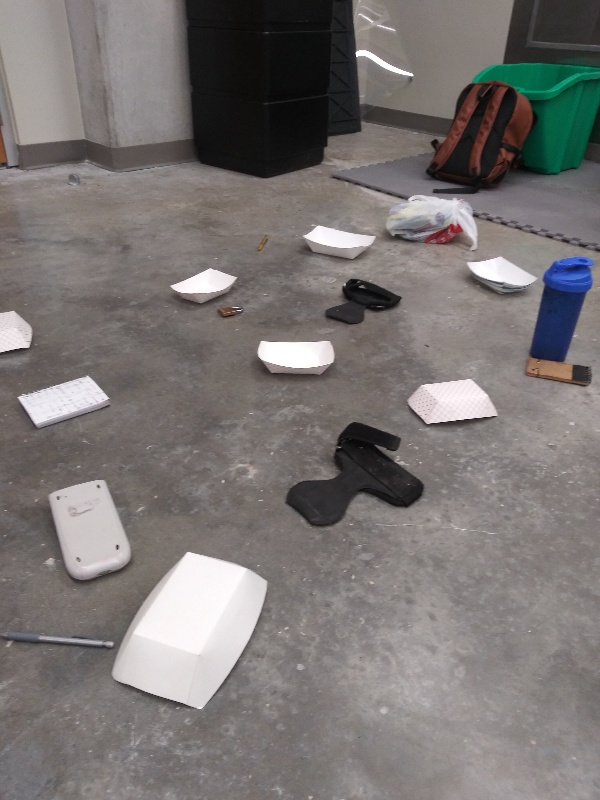plate: (110, 547, 273, 719), (404, 378, 502, 429), (460, 254, 539, 300), (252, 337, 340, 378), (163, 265, 242, 309), (297, 223, 382, 262), (1, 306, 41, 358)
